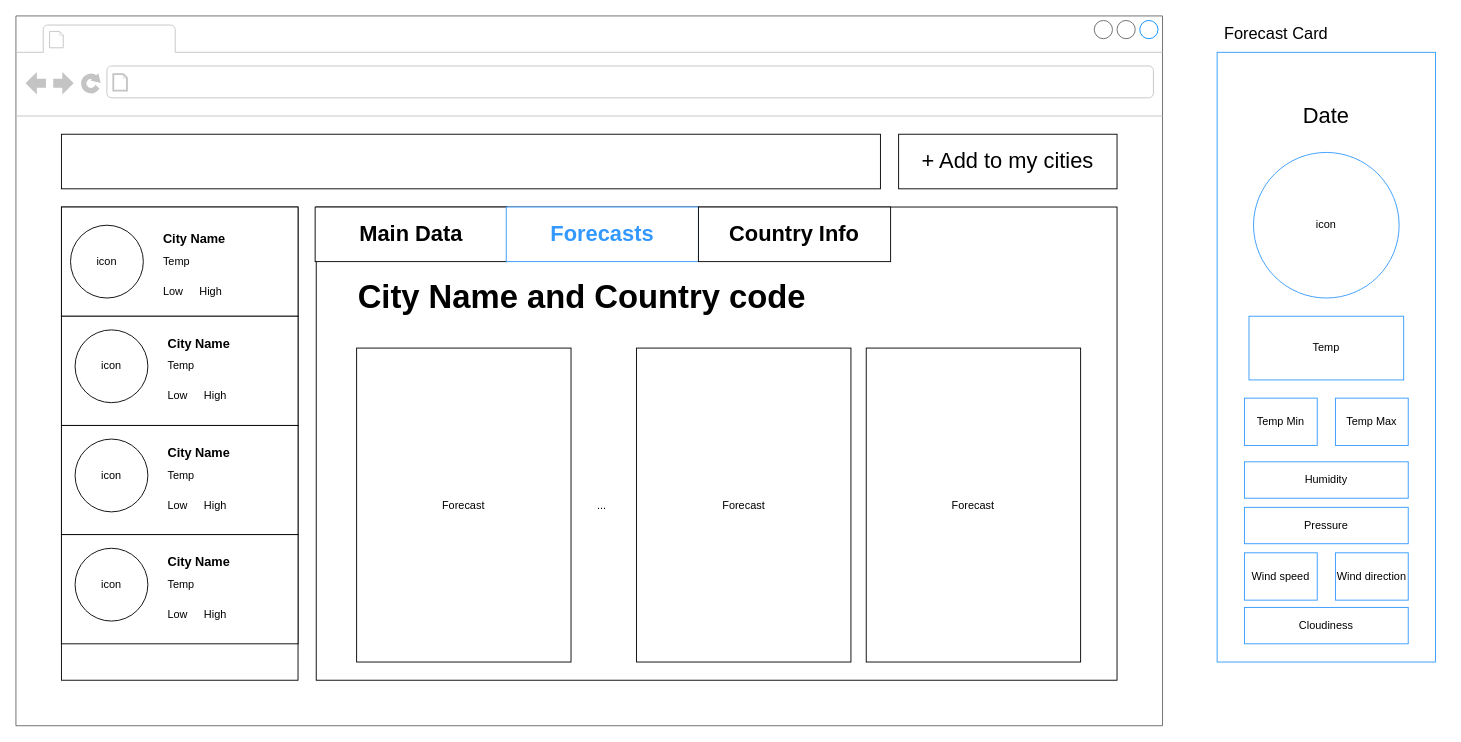
Image size: 1461x742. Some labels were removed from this diagram. The centre of each missing label's shape, as x and y in pixels:
"https://www.draw.io" goes at pixel 247 82.
"Page 1" goes at pixel 120 38.
"Search for a city to seee it's weather" goes at pixel 470 161.
